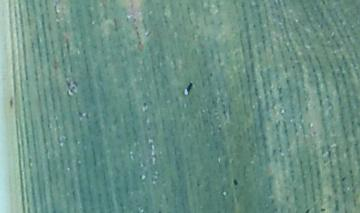tarspot: (185, 81, 193, 95), (8, 95, 14, 110), (231, 177, 239, 187), (141, 101, 148, 109), (76, 110, 83, 118), (303, 207, 312, 213), (319, 207, 326, 213), (208, 71, 214, 78), (319, 1, 327, 6), (251, 22, 256, 30)
